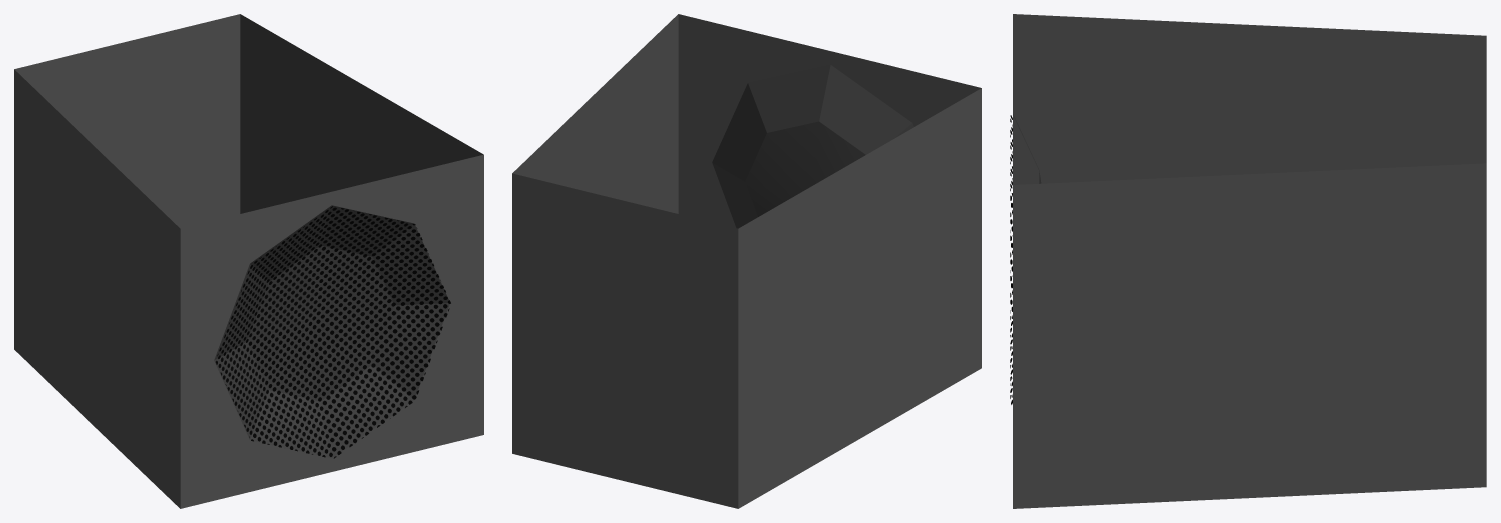
Rendered from Itr_Obj_Speaker3_Middle_03.FBX.
3 renders of one model, left to right at view 1: azimuth 30°, elevation 25°; view 2: azimuth 150°, elevation 25°; view 3: azimuth 270°, elevation 25°, orthographic. The views are drawn at different scales.
Parts seen in each view (by area): view 1: Itr_Obj_Speaker3_Middle_03; view 2: Itr_Obj_Speaker3_Middle_03; view 3: Itr_Obj_Speaker3_Middle_03.
Boxes of the visible parts, <box> form: Itr_Obj_Speaker3_Middle_03: <box>14,14,483,508</box>; Itr_Obj_Speaker3_Middle_03: <box>512,14,981,508</box>; Itr_Obj_Speaker3_Middle_03: <box>1010,14,1486,508</box>.
Bounding box in the file's own units: 9.88 × 8.72 × 11.62.
